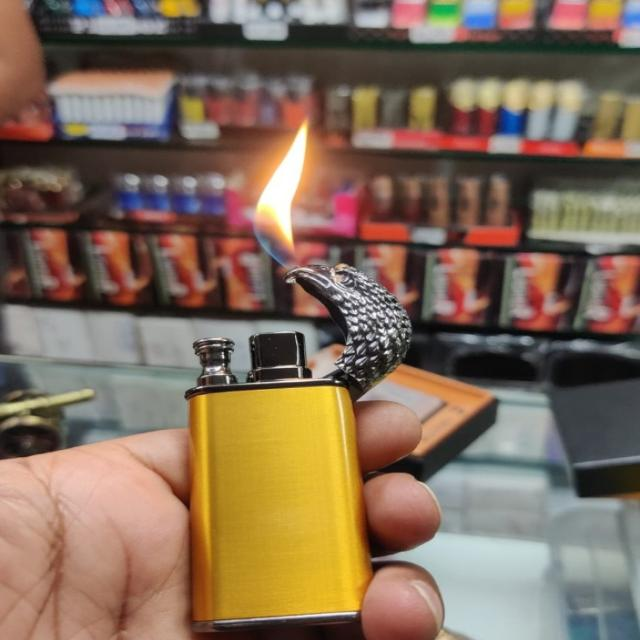fire: (253, 117, 307, 270)
